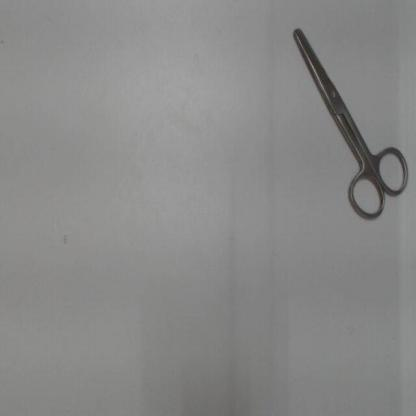Dressing Scissors: (283, 11, 414, 231)
